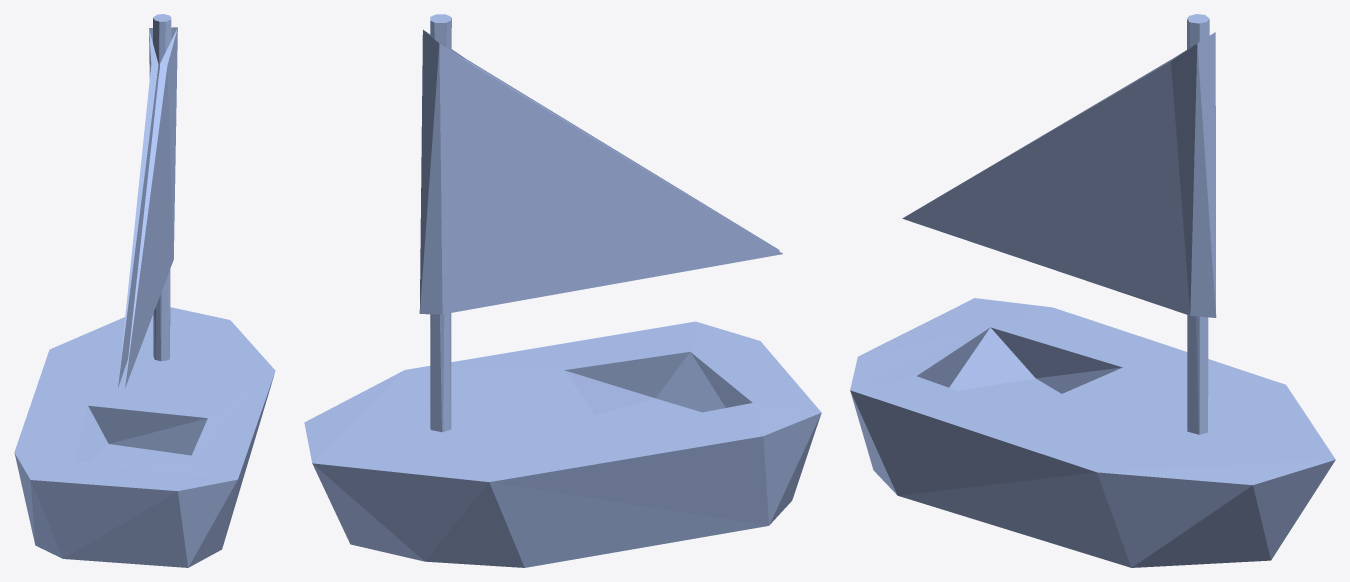
The picture shows the model from 3 angles, left to right: view 1: azimuth 30°, elevation 25°; view 2: azimuth 150°, elevation 25°; view 3: azimuth 270°, elevation 25°; orthographic projection. The views are drawn at different scales.
Parts seen in each view (by area): view 1: Boat; view 2: Boat; view 3: Boat.
Part boxes in pixels (x1,y1,x2,y2): Boat: [14, 14, 275, 567]; Boat: [304, 14, 821, 567]; Boat: [850, 14, 1335, 567].
Bounding box in the file's own units: 118 × 152 × 130.
